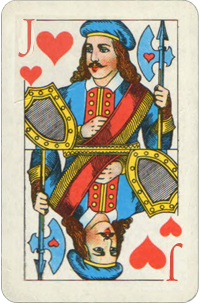jack of hearts: (2, 1, 198, 301)
